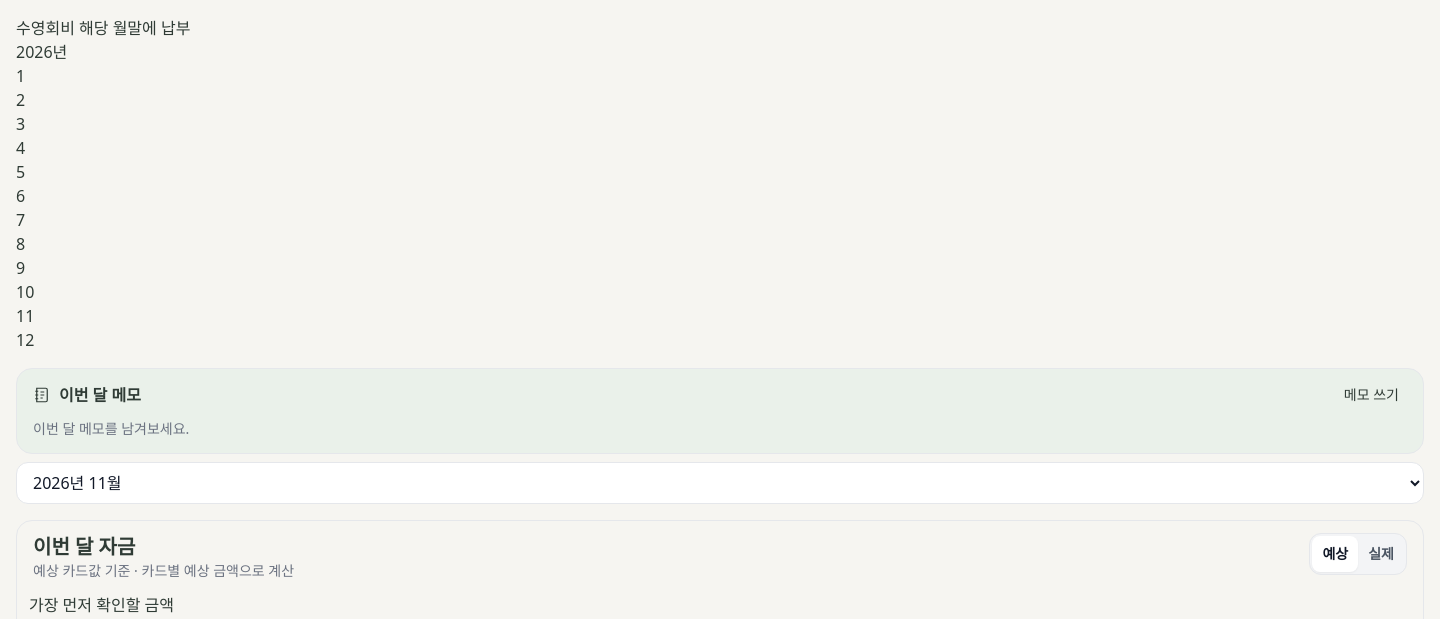
Test: DashboardPage › shows extra spending in its billing month
The image size is (1440, 619).
Select "2025년 2월" in the dropdown at [720, 483], box [16,462,1424,504]
(page scrolled)
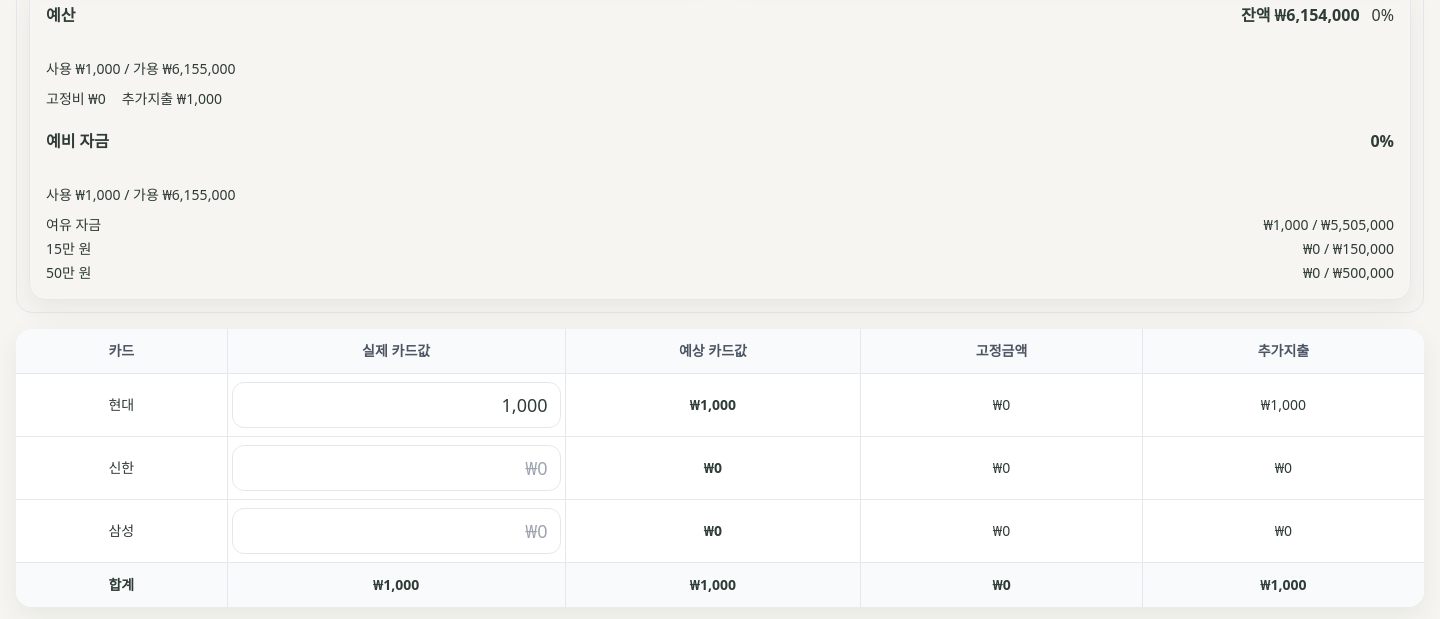
Result: the row "현대 ₩1,000 ₩0 ₩1,000" is shown at [16,374,1424,436]
